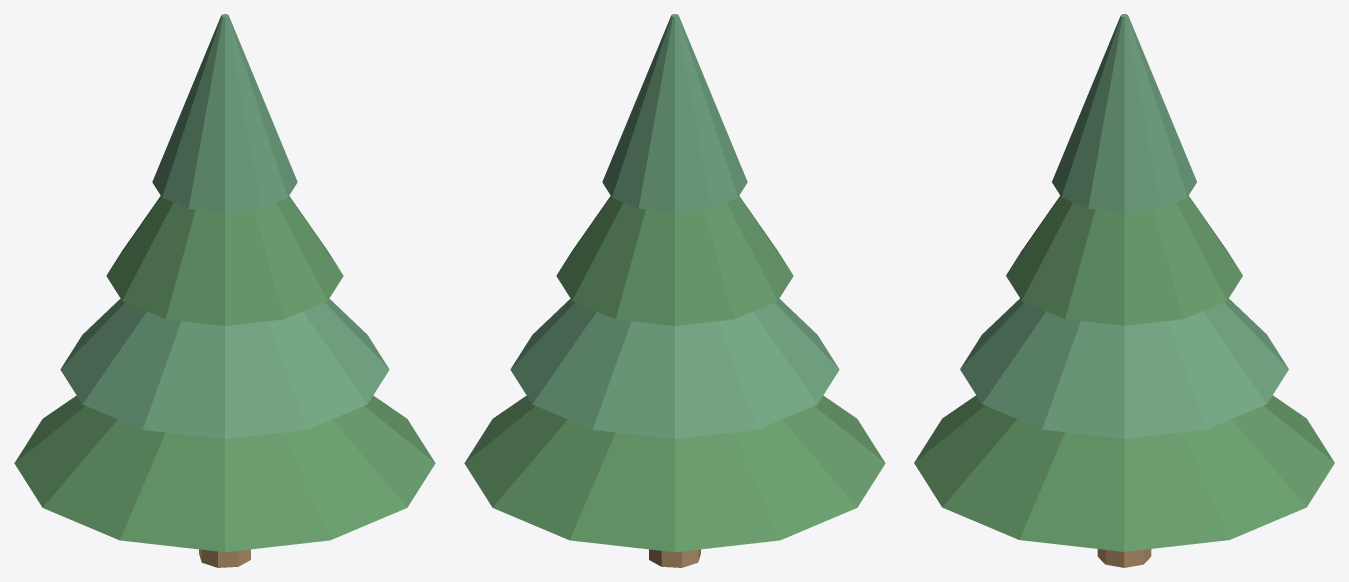
The model's file is HOB_Tree_Pine_S.fbx.
3 views of the same model, side by side, from view 1: azimuth 30°, elevation 25°; view 2: azimuth 150°, elevation 25°; view 3: azimuth 270°, elevation 25° (orthographic).
Visible parts, largest first — view 1: HOB_Tree_Pine_S; view 2: HOB_Tree_Pine_S; view 3: HOB_Tree_Pine_S.
Boxes of the visible parts, bbox=[...] form: HOB_Tree_Pine_S: bbox=[14, 14, 435, 567]; HOB_Tree_Pine_S: bbox=[464, 14, 885, 567]; HOB_Tree_Pine_S: bbox=[914, 14, 1334, 567].
Bounding box in the file's own units: 220 × 312 × 220.
